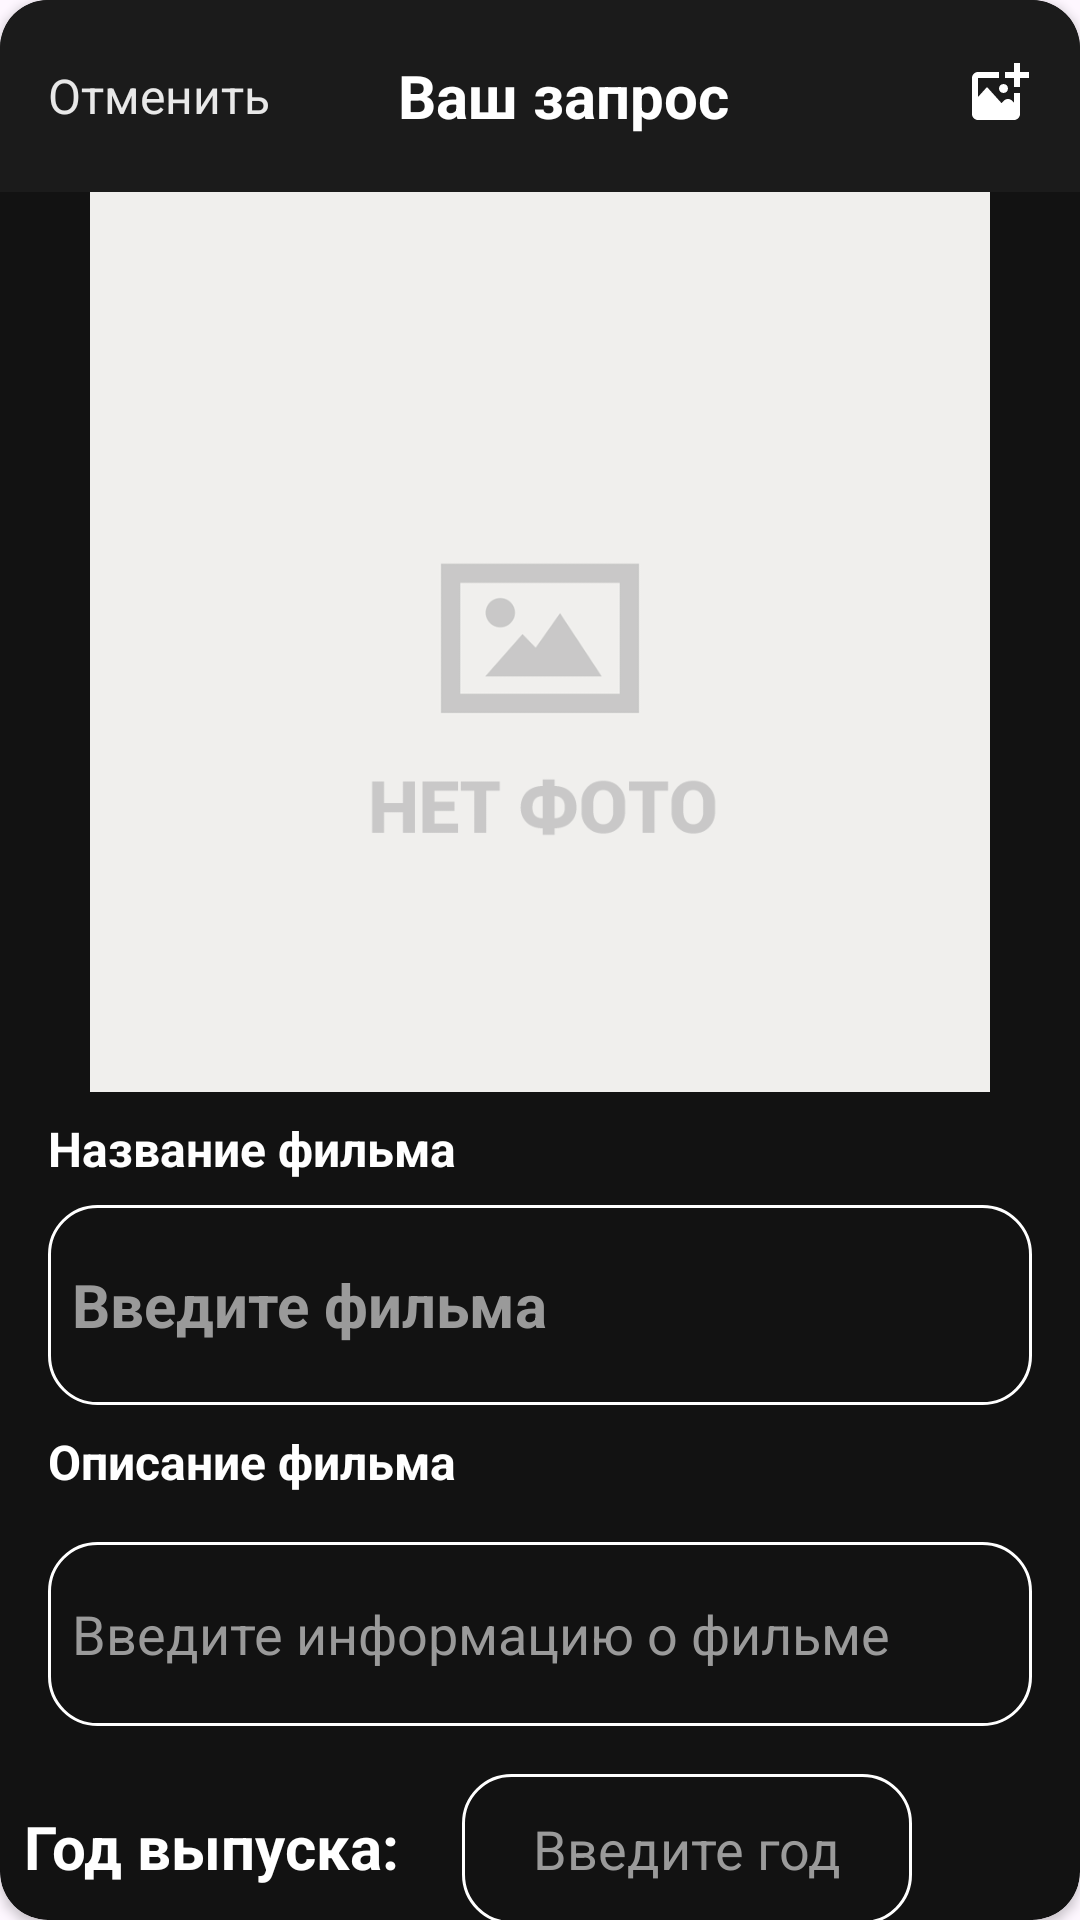

Screen size 1080 x 1920. Icon name, then its center in pixels as (x=x, y=y):
add: (x=1000, y=91)
